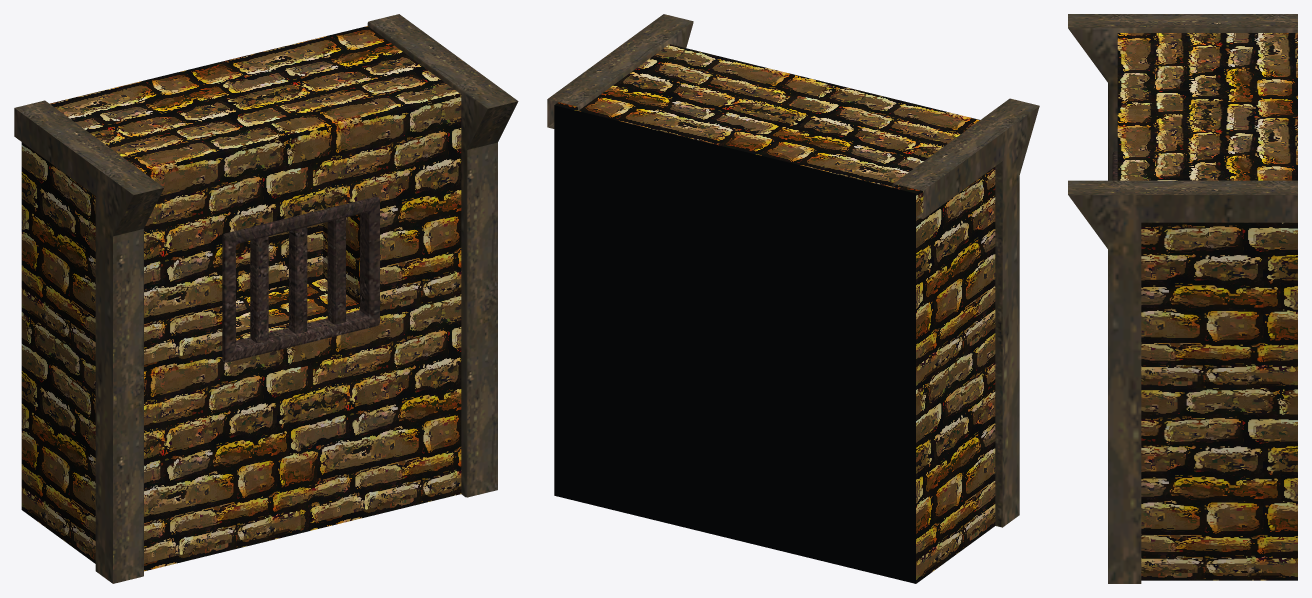
File: stoneWallF.fbx
The picture shows the model from 3 angles, left to right: view 1: azimuth 30°, elevation 25°; view 2: azimuth 150°, elevation 25°; view 3: azimuth 270°, elevation 25°; orthographic projection. The views are drawn at different scales.
Parts seen in each view (by area): view 1: stoneWallF; view 2: stoneWallF; view 3: stoneWallF.
Part boxes in pixels (left/top/right/bottom): stoneWallF: left=14, top=14, right=518, bottom=583; stoneWallF: left=547, top=14, right=1039, bottom=583; stoneWallF: left=1068, top=14, right=1297, bottom=583.
Size of the model in its own units: 300 by 301 by 161.
